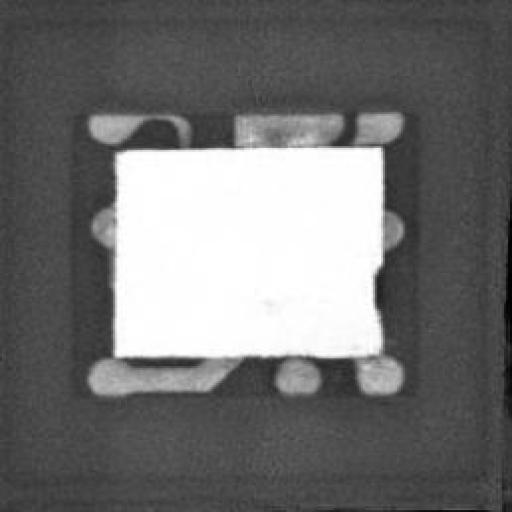DIE_BROKEN: (367, 262, 385, 313)
